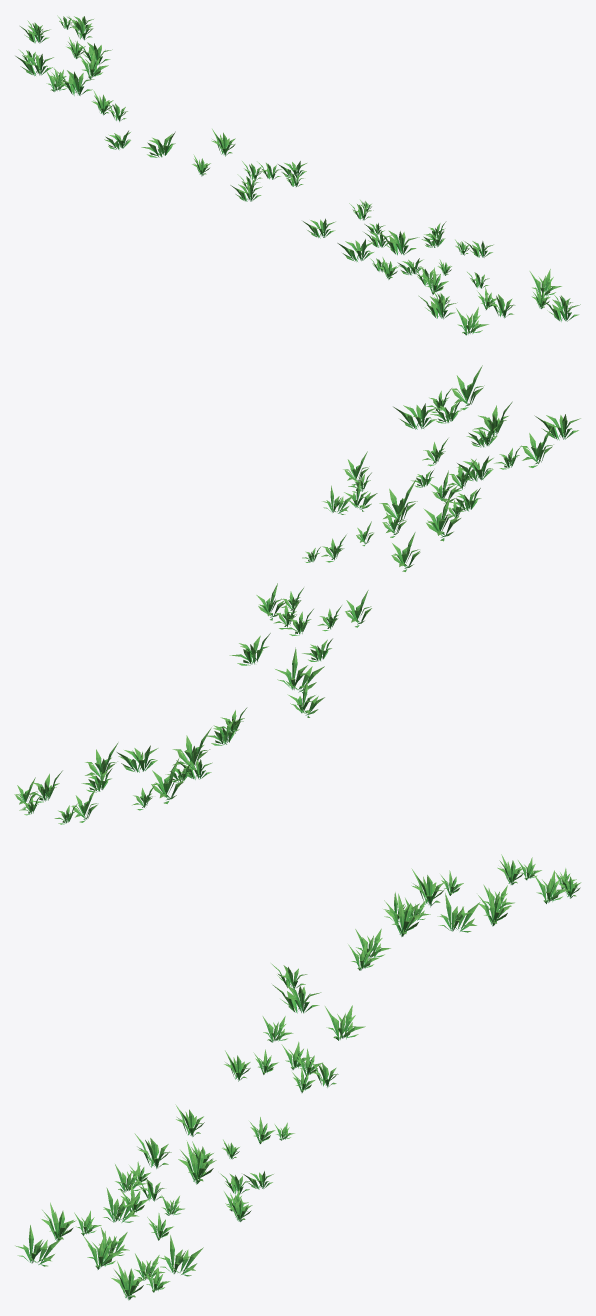
The model's file is Area_09_52.fbx.
The picture shows the model from 3 angles, top to bottom: view 1: azimuth 30°, elevation 25°; view 2: azimuth 150°, elevation 25°; view 3: azimuth 330°, elevation 25°; orthographic projection. The views are drawn at different scales.
Parts seen in each view (by area): view 1: Area_09_52; view 2: Area_09_52; view 3: Area_09_52.
Part boxes in pixels (bbox=[...]): Area_09_52: bbox=[15, 15, 580, 335]; Area_09_52: bbox=[14, 365, 580, 824]; Area_09_52: bbox=[15, 854, 581, 1300].
Size of the model in its own units: 724 by 109 by 2747.
